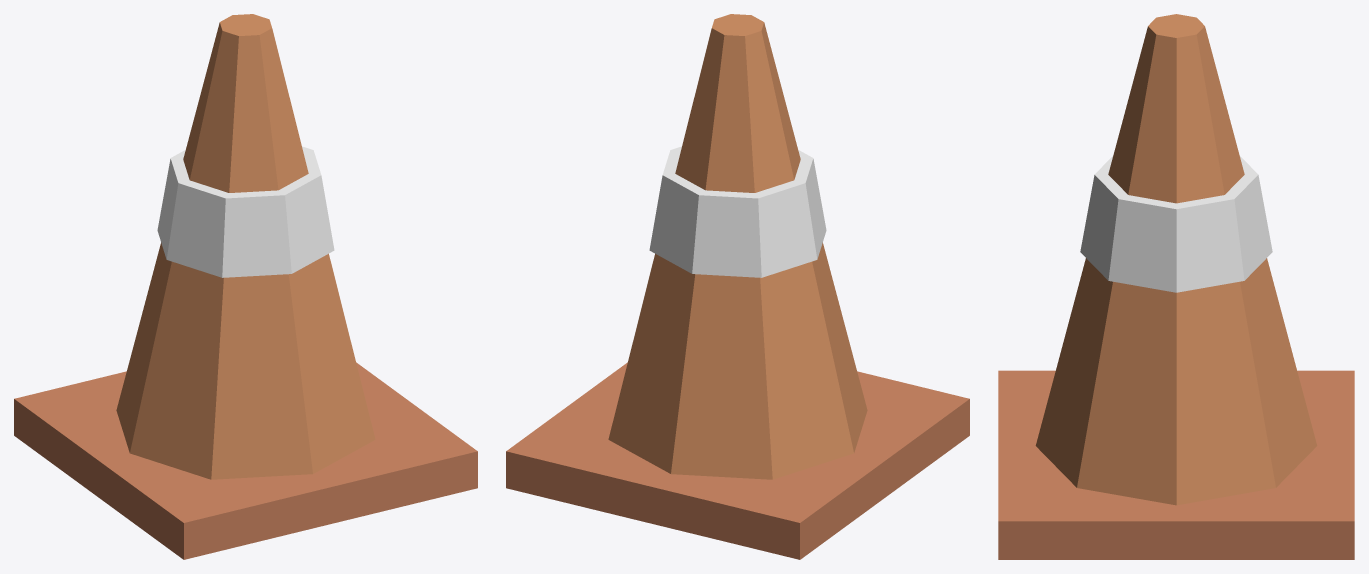
3 views of the same model, side by side, from view 1: azimuth 30°, elevation 25°; view 2: azimuth 150°, elevation 25°; view 3: azimuth 270°, elevation 25° (orthographic). The views are drawn at different scales.
Visible parts, largest first — view 1: Cone; view 2: Cone; view 3: Cone.
Part boxes in pixels (<box>): Cone: <box>14,14,477,559</box>; Cone: <box>506,14,969,559</box>; Cone: <box>998,14,1354,559</box>.
Bounding box in the file's own units: 0.5 × 0.71 × 0.5.
